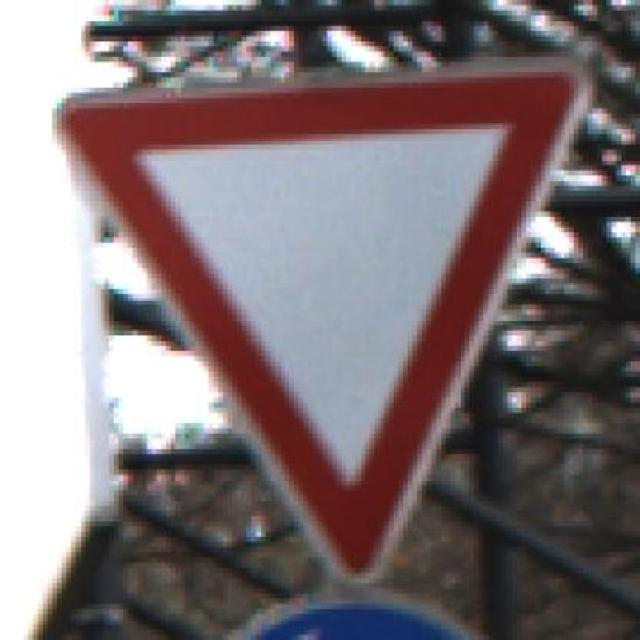Give Way: (38, 58, 630, 611)
